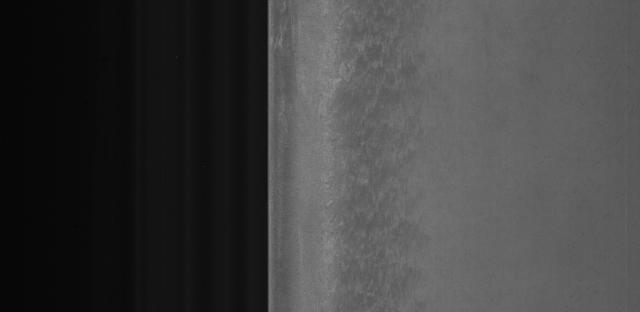silk_spot: (331, 25, 432, 273)
